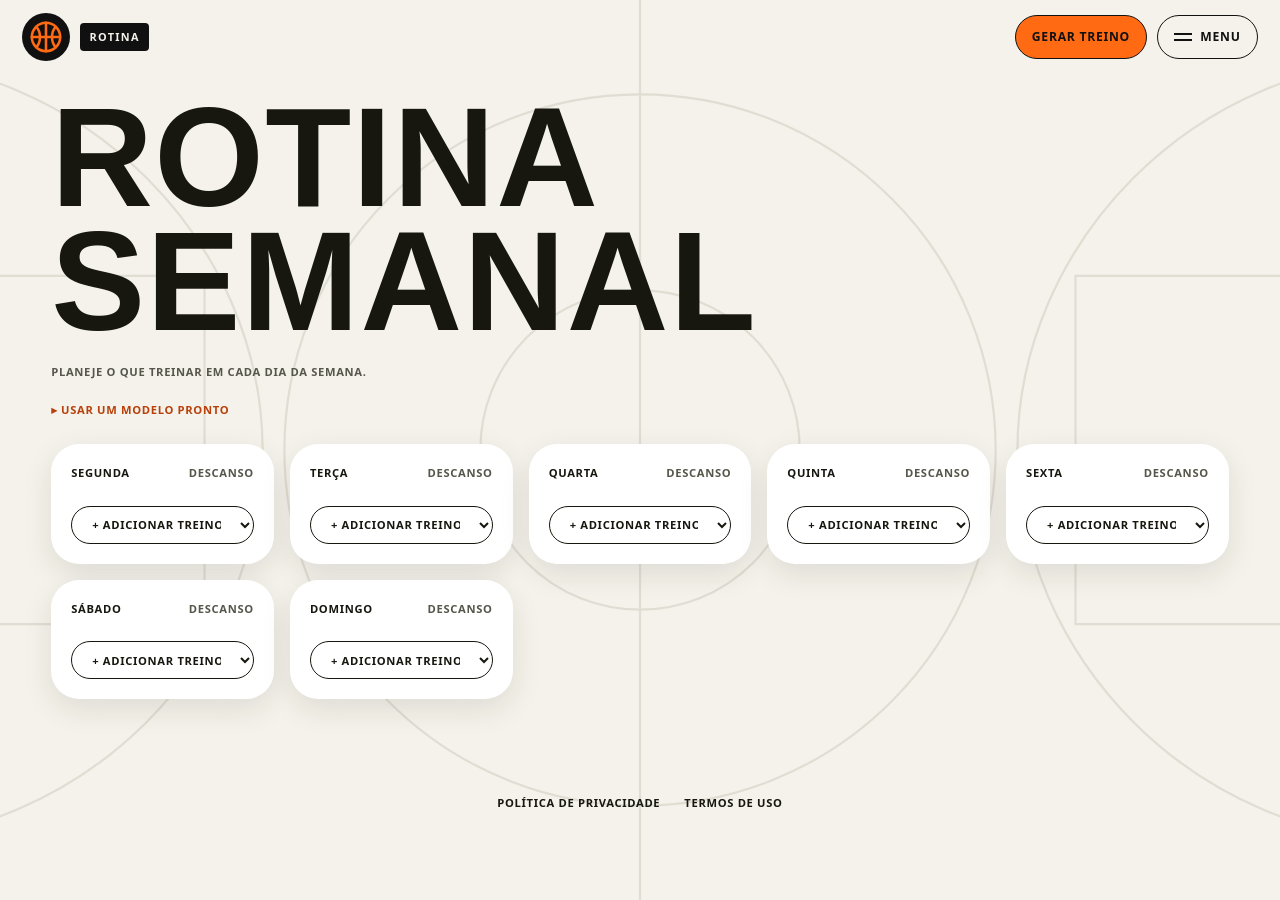
Test: Rotina semanal › só troca a semana inteira por um modelo depois de confirmar
This screenshot has width=1280, height=900.
Click the button "▸ Usar um modelo pronto" at {"x": 140, "y": 410}, box [51,401,229,419]
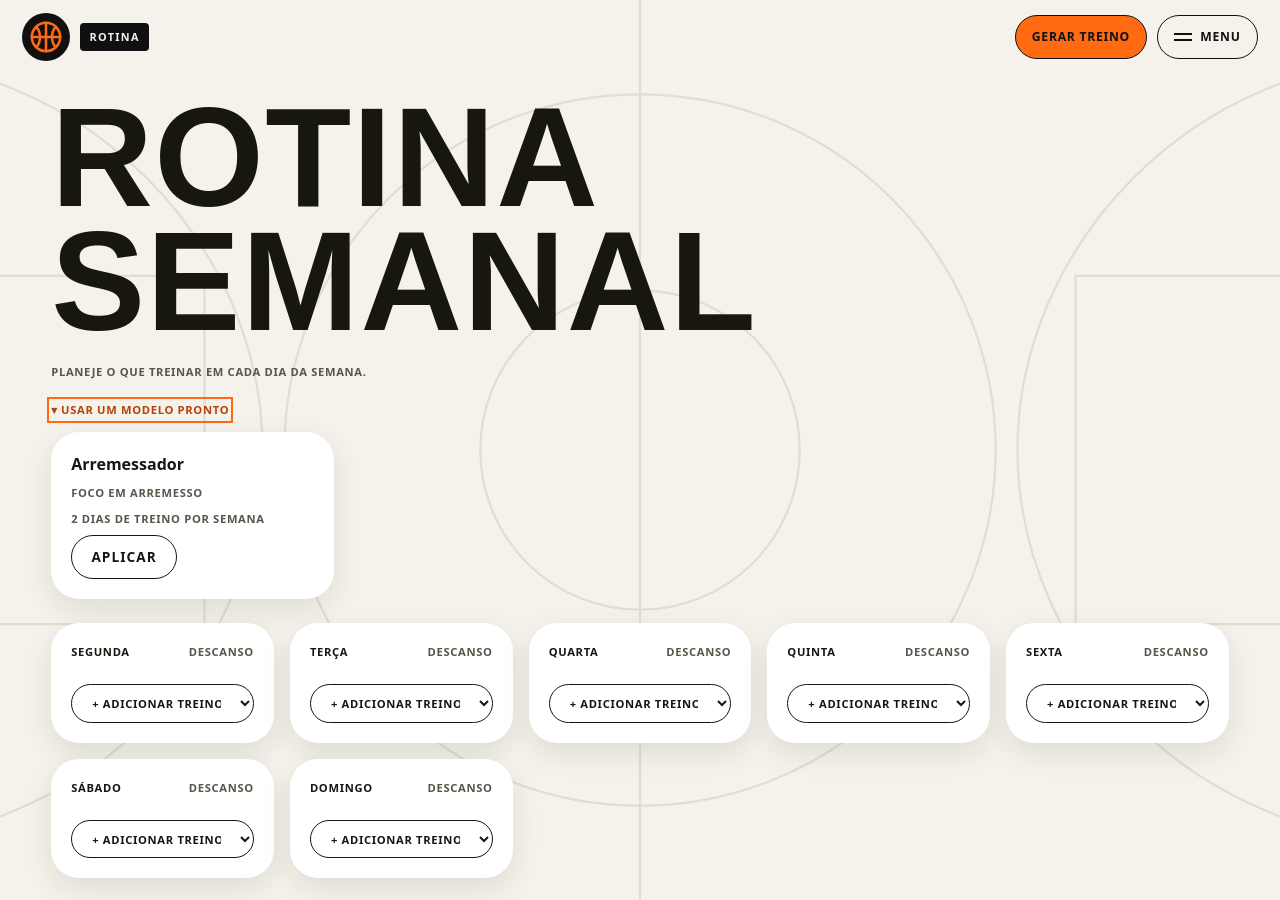
Click the button "Aplicar" at {"x": 124, "y": 557}, box [71,535,177,579]
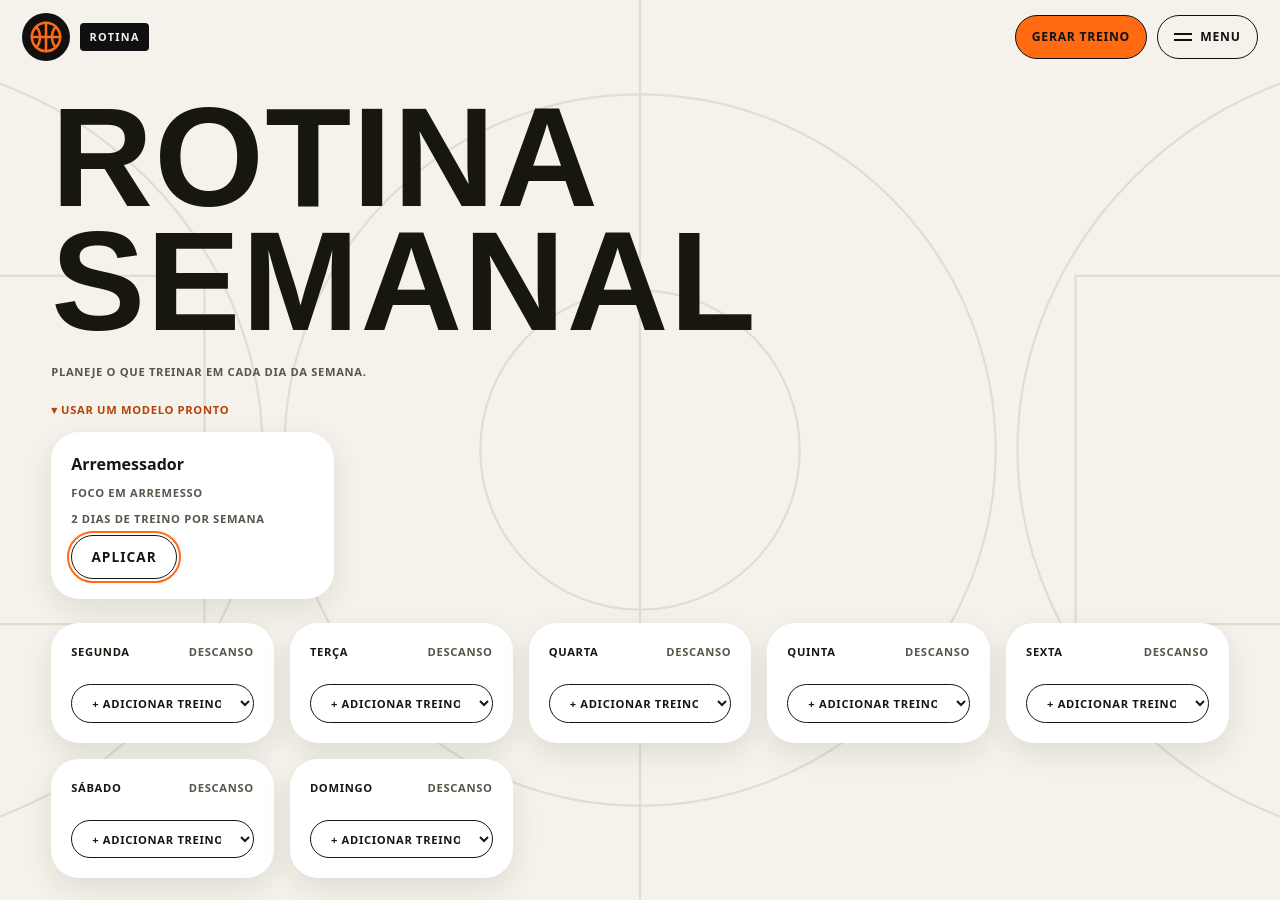
Click the button "Aplicar" at {"x": 124, "y": 557}, box [71,535,177,579]
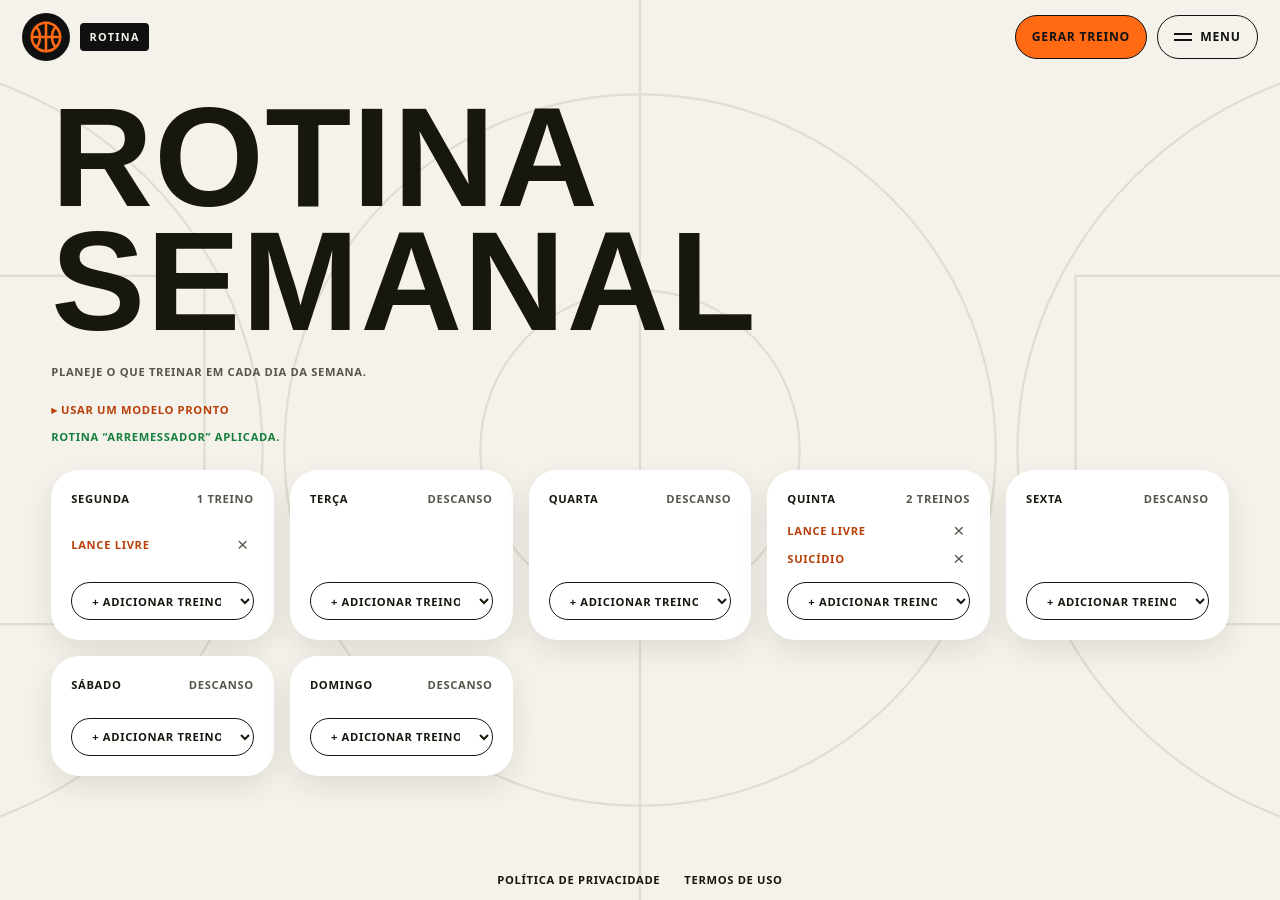
Now the message reads "Rotina “Arremessador” aplicada.", box [51,429,280,444]
